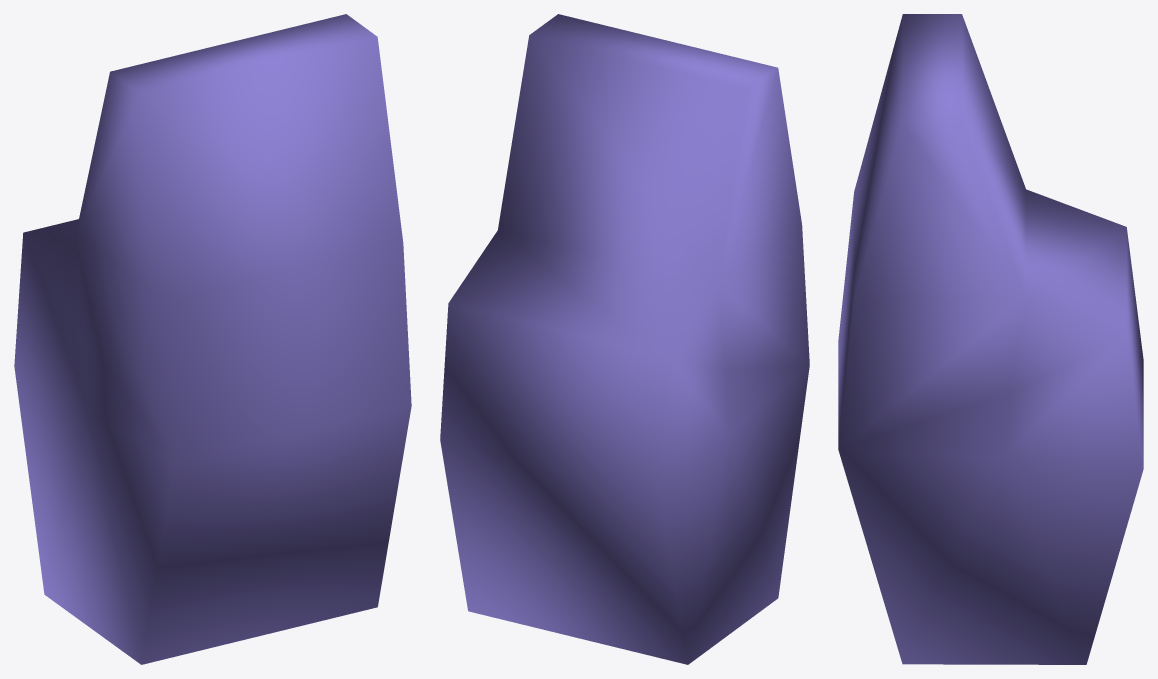
The model's file is Cactus_Short_02_SPR_COL.fbx.
3 views of the same model, side by side, from view 1: azimuth 30°, elevation 25°; view 2: azimuth 150°, elevation 25°; view 3: azimuth 270°, elevation 25° (orthographic). The views are drawn at different scales.
Parts seen in each view (by area): view 1: Cactus_Short_02_SPR_COL; view 2: Cactus_Short_02_SPR_COL; view 3: Cactus_Short_02_SPR_COL.
Part boxes in pixels (x1,y1,x2,y2): Cactus_Short_02_SPR_COL: (14, 14, 411, 664); Cactus_Short_02_SPR_COL: (440, 14, 809, 664); Cactus_Short_02_SPR_COL: (838, 14, 1143, 664).
Size of the model in its own units: 66.62 by 154 by 78.54.
